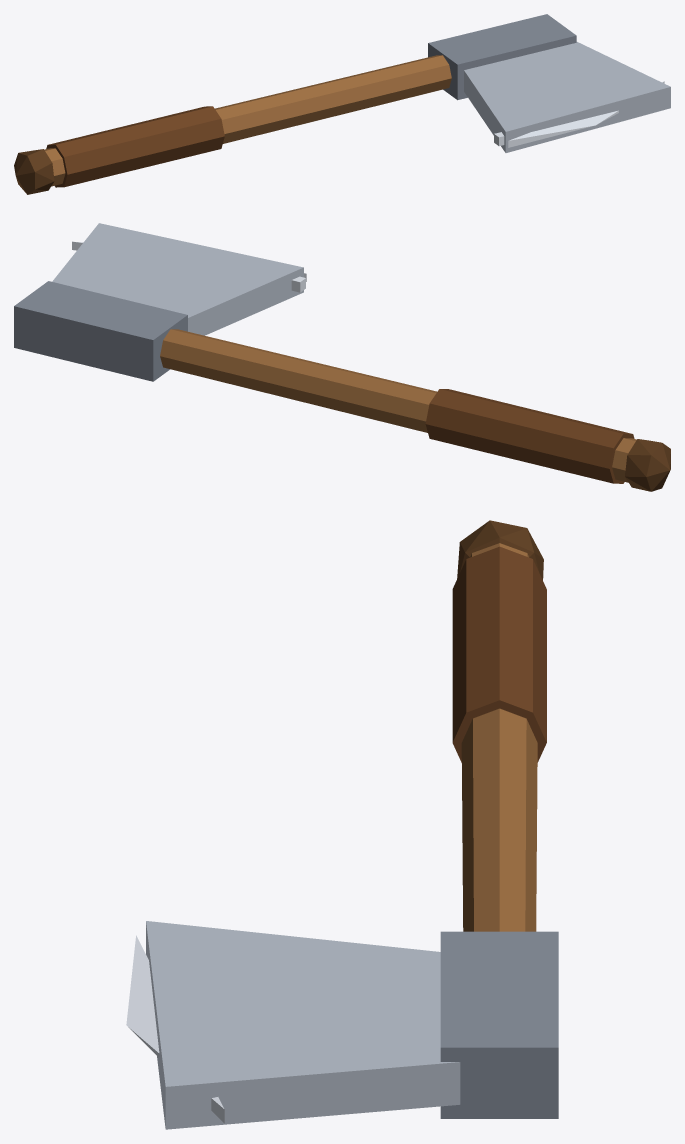
Rendered from drop_steel_hatchet.glb.
3 renders of one model, top to bottom at view 1: azimuth 30°, elevation 25°; view 2: azimuth 150°, elevation 25°; view 3: azimuth 270°, elevation 25°, orthographic. The views are drawn at different scales.
Parts seen in each view (by area): view 1: drop_steel_hatchet; view 2: drop_steel_hatchet; view 3: drop_steel_hatchet.
Boxes of the visible parts, bbox=[...] form: drop_steel_hatchet: bbox=[14, 14, 670, 194]; drop_steel_hatchet: bbox=[14, 223, 670, 491]; drop_steel_hatchet: bbox=[126, 520, 558, 1129].
Bounding box in the file's own units: 0.6138 × 0.0432 × 0.198.
